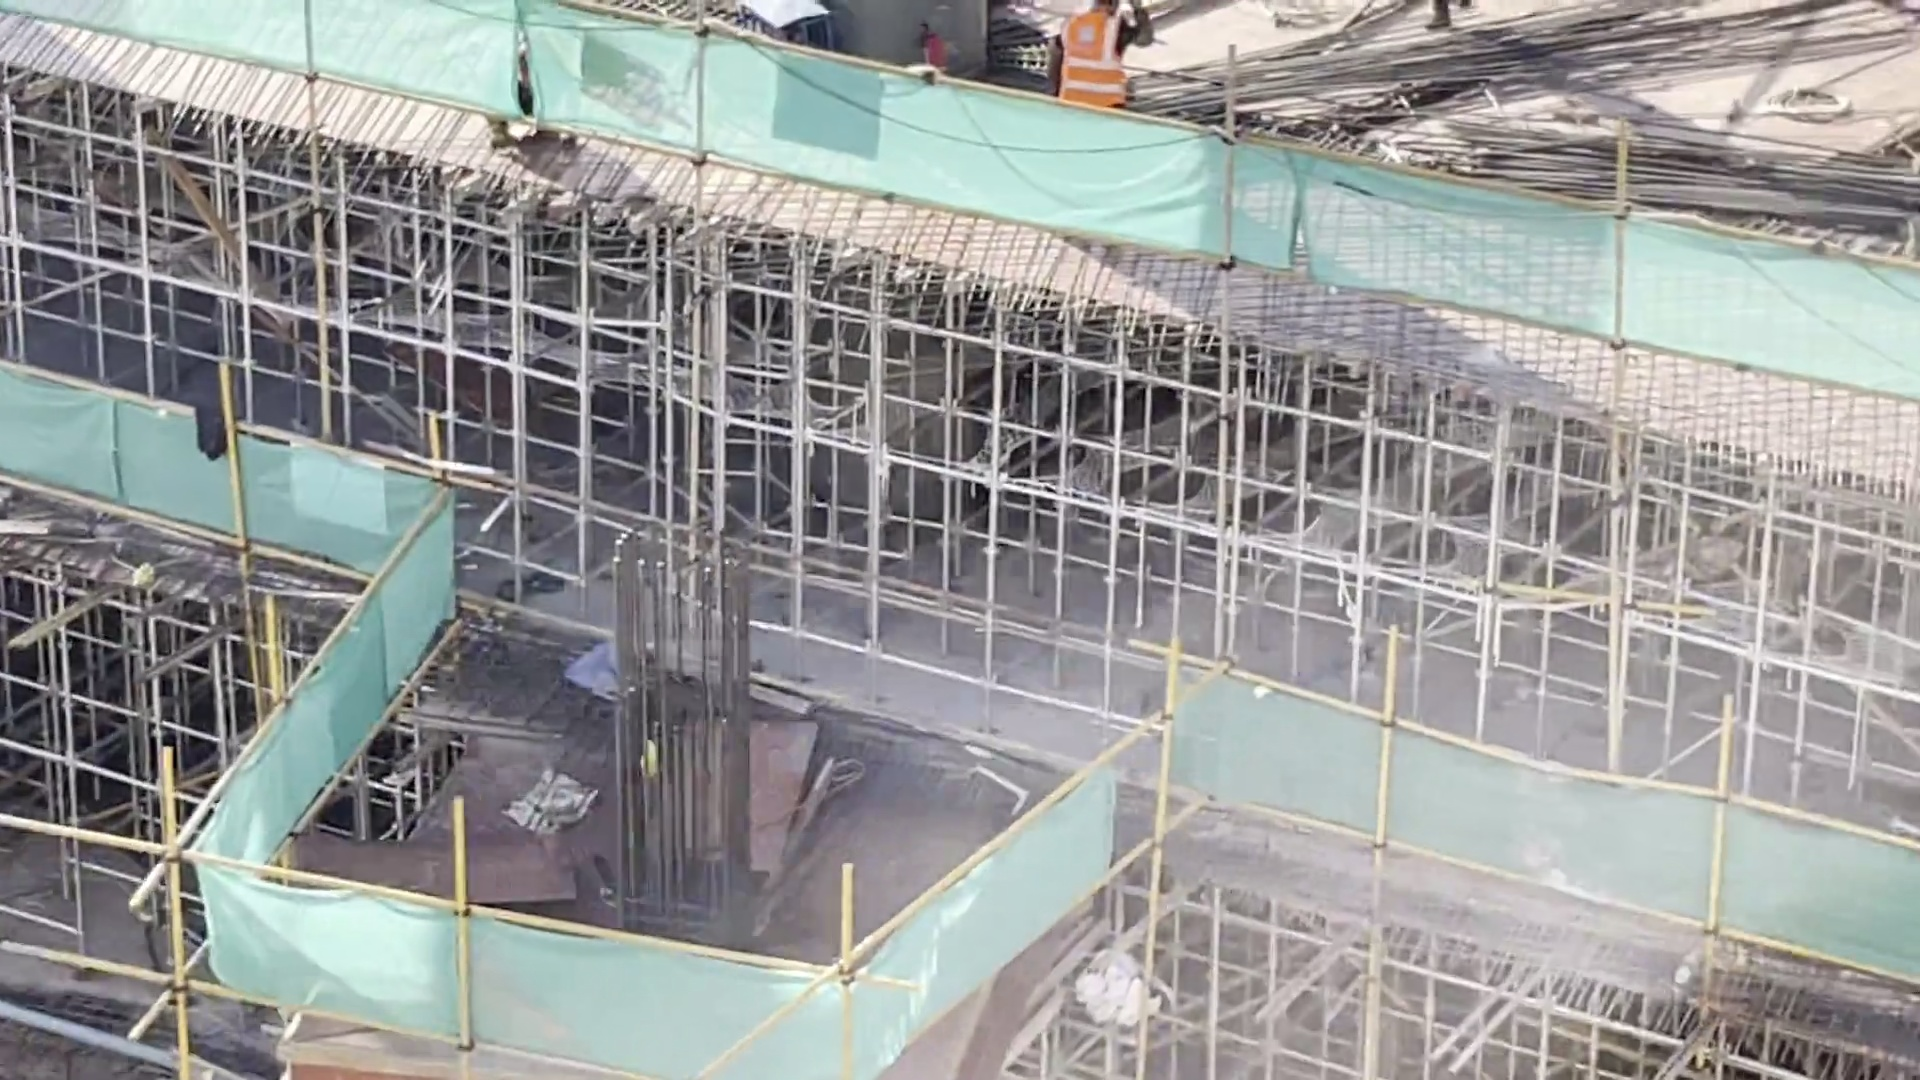person: (1038, 1, 1147, 116)
vest: (1052, 5, 1130, 106)
